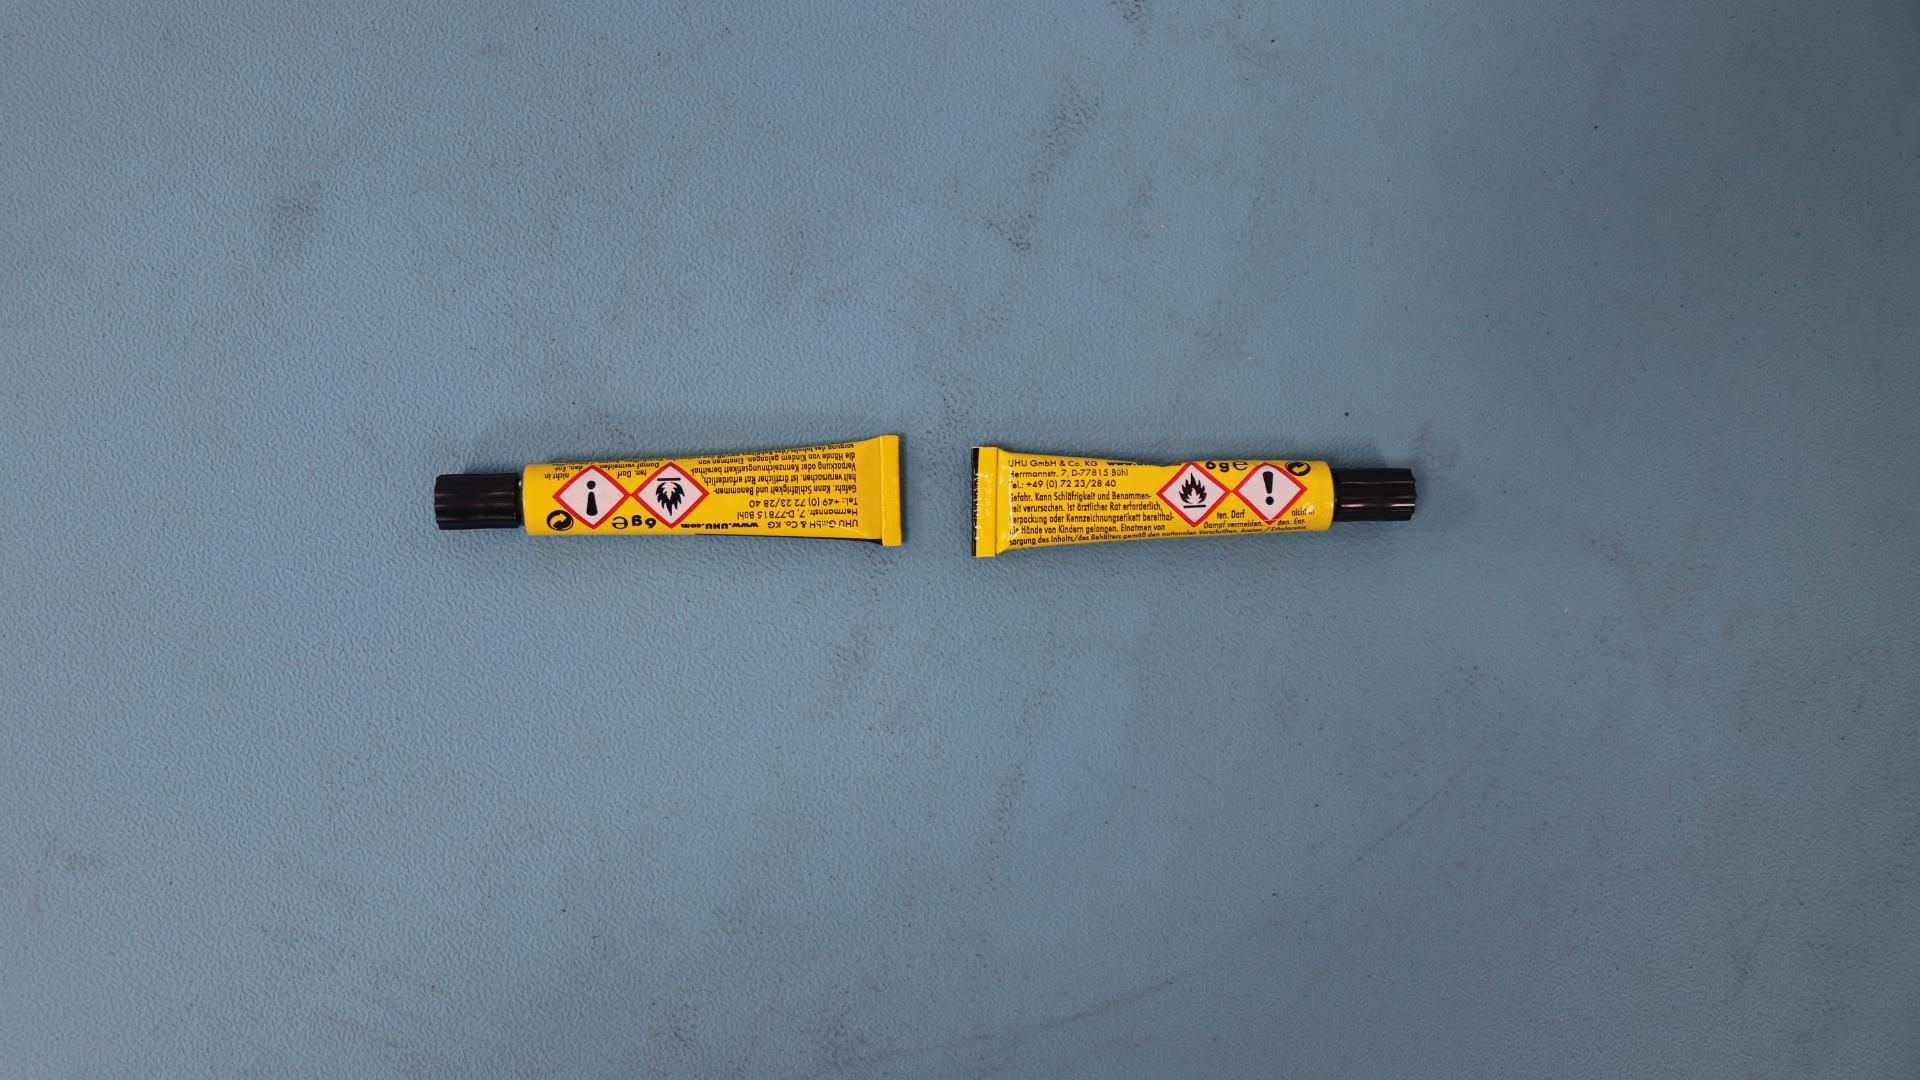Head: (472, 498, 481, 508), (1370, 492, 1377, 501)
Tail: (981, 498, 989, 512), (886, 487, 895, 497)
Tube: (434, 435, 902, 548), (970, 445, 1418, 556)
